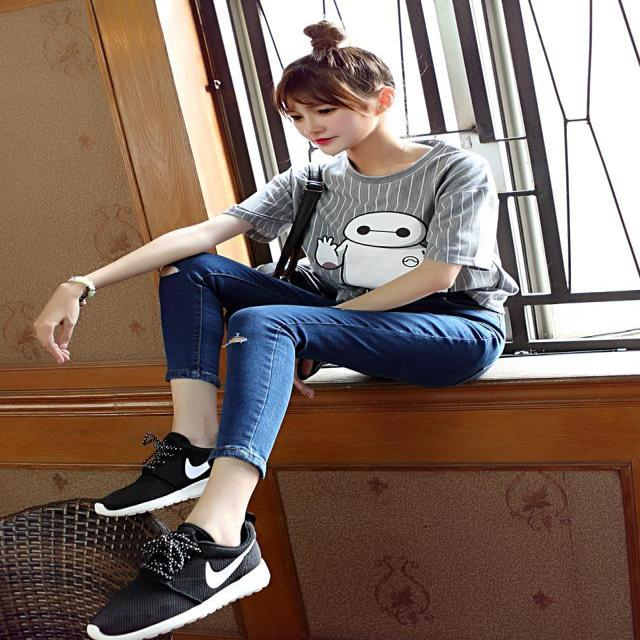short sleeve top: (223, 140, 520, 313)
trousers: (160, 253, 506, 480)
